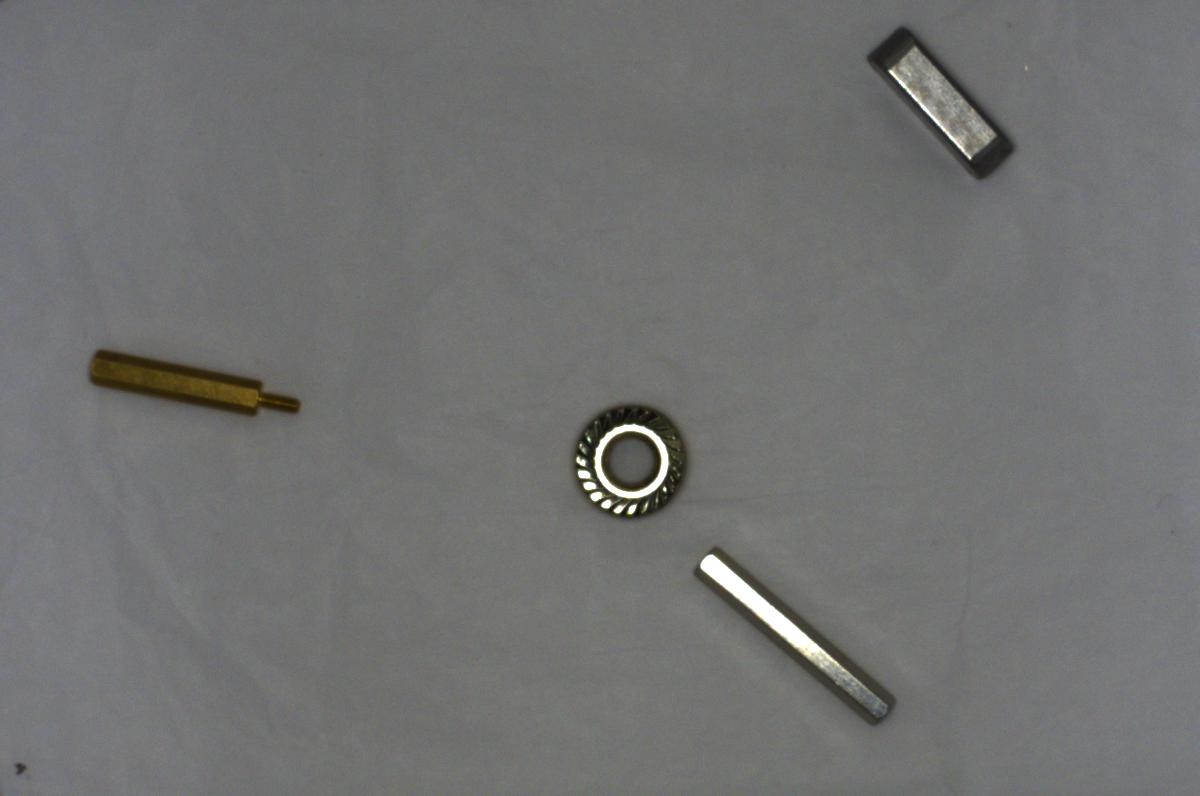Double hexagonal column: (694, 542, 901, 726)
Flange nut: (560, 394, 693, 528)
Hexagon pillar: (80, 345, 310, 423)
Keybar: (862, 21, 1017, 183)
